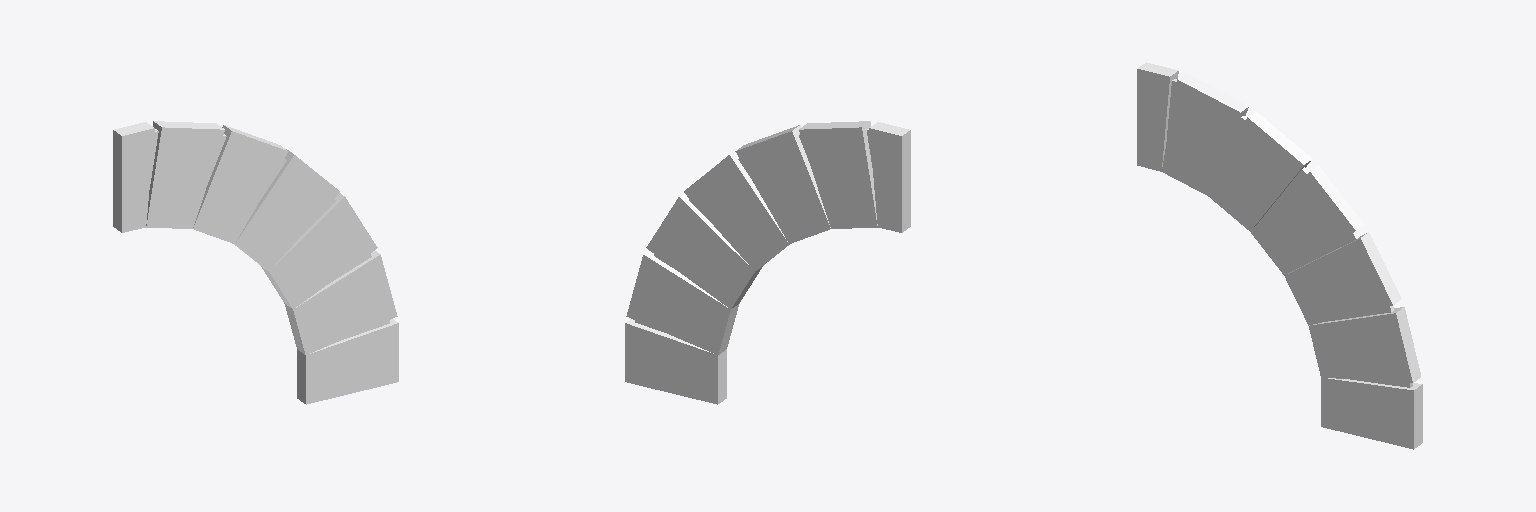
The model's file is generic_facade_round_arch_2_right.obj.
3 views of the same model, side by side, from view 1: azimuth 30°, elevation 25°; view 2: azimuth 150°, elevation 25°; view 3: azimuth 330°, elevation 25° (orthographic).
Visible parts, largest first — view 1: arch_2_left, arch_2_left_inner; view 2: arch_2_left; view 3: arch_2_left, arch_2_left_inner.
Part boxes in pixels (x1,y1,x2,y2): arch_2_left: (113, 121, 398, 404); arch_2_left_inner: (150, 129, 389, 339); arch_2_left: (625, 121, 910, 404); arch_2_left: (1137, 62, 1422, 449); arch_2_left_inner: (1166, 79, 1412, 387).
Bounding box in the file's own units: 1.5 × 1.62 × 0.0812.